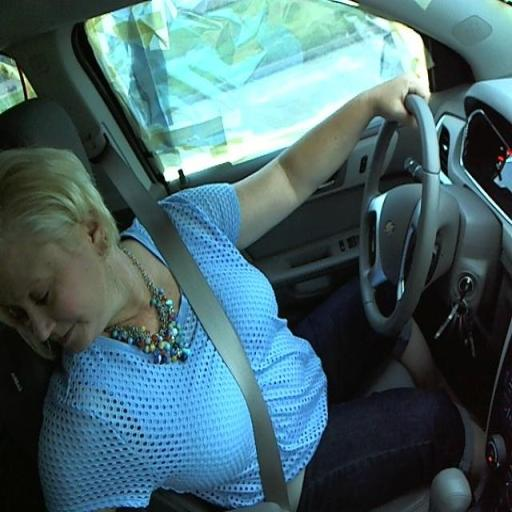turning: (2, 80, 437, 476)
